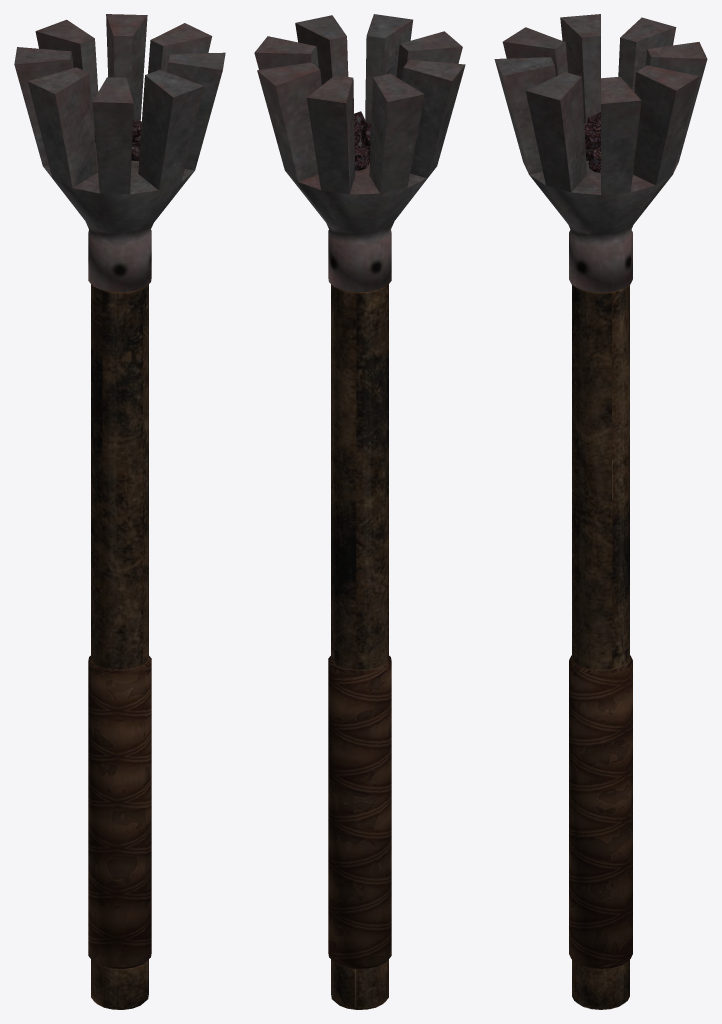
Rendered from wpn_torch.glb.
3 renders of one model, left to right at view 1: azimuth 30°, elevation 25°; view 2: azimuth 150°, elevation 25°; view 3: azimuth 270°, elevation 25°, orthographic.
Parts seen in each view (by area): view 1: Object_3, Object_5, Object_4; view 2: Object_3, Object_5, Object_4, Object_2; view 3: Object_3, Object_5, Object_4, Object_2.
Boxes of the visible parts, x1=… form: Object_3: x1=14, y1=14, x2=225, y2=292; Object_5: x1=91, y1=284, x2=148, y2=1009; Object_4: x1=88, y1=655, x2=151, y2=968; Object_3: x1=254, y1=14, x2=465, y2=292; Object_5: x1=331, y1=284, x2=388, y2=1009; Object_4: x1=328, y1=655, x2=391, y2=968; Object_2: x1=354, y1=111, x2=371, y2=170; Object_3: x1=494, y1=14, x2=707, y2=292; Object_5: x1=572, y1=285, x2=629, y2=1009; Object_4: x1=569, y1=655, x2=632, y2=968; Object_2: x1=584, y1=112, x2=600, y2=172.
Size of the model in its own units: 13.57 by 66.24 by 13.57.
Materials: 4 (4 with a texture image).
